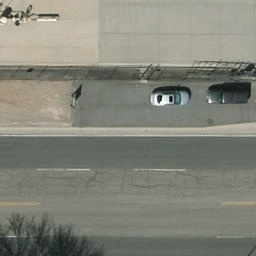car: (207, 89, 250, 103), (151, 91, 189, 106)
